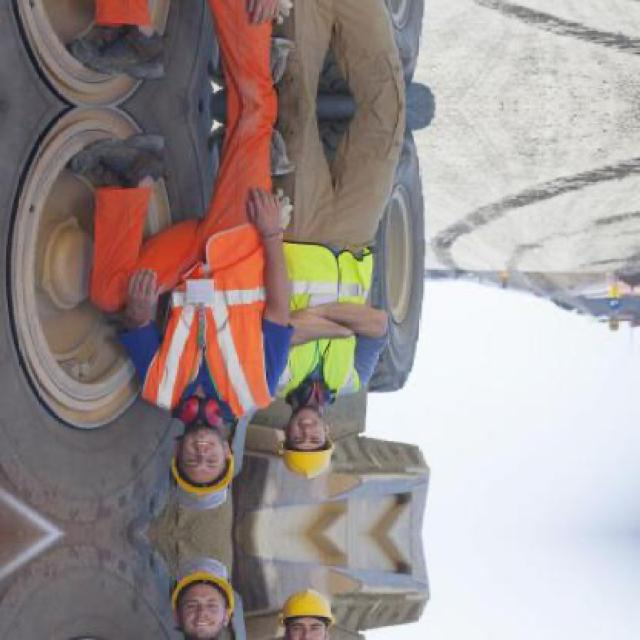con casco: (154, 415, 247, 500), (269, 403, 336, 489)
